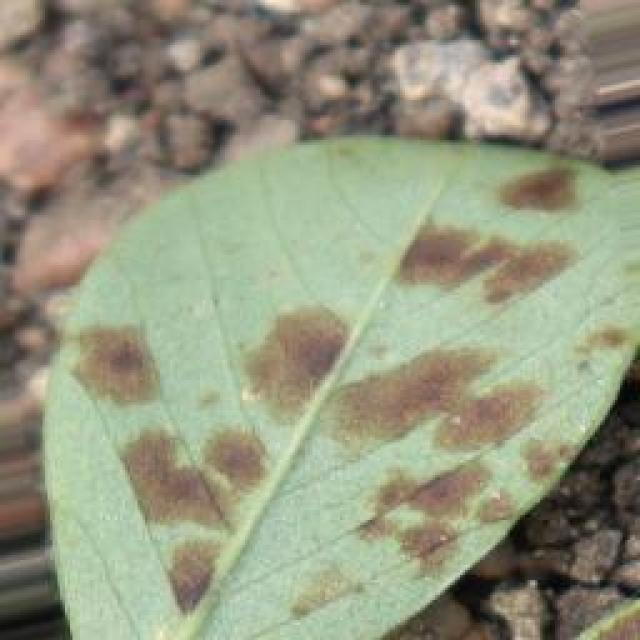Whitefly: (36, 92, 638, 605)
